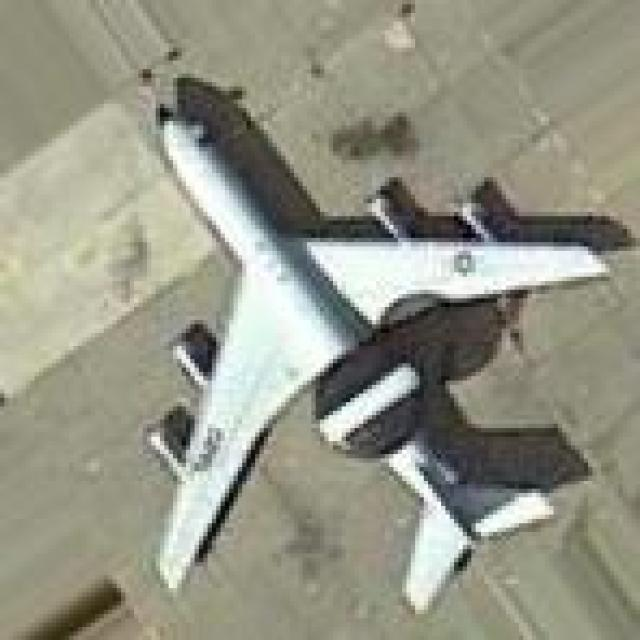E-3_TopDown: (130, 65, 631, 610)
